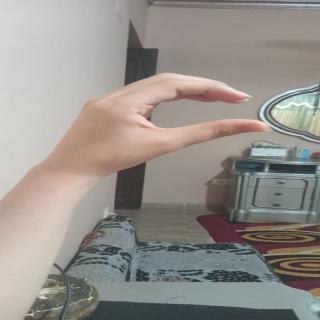JEEM: (50, 61, 272, 171)
